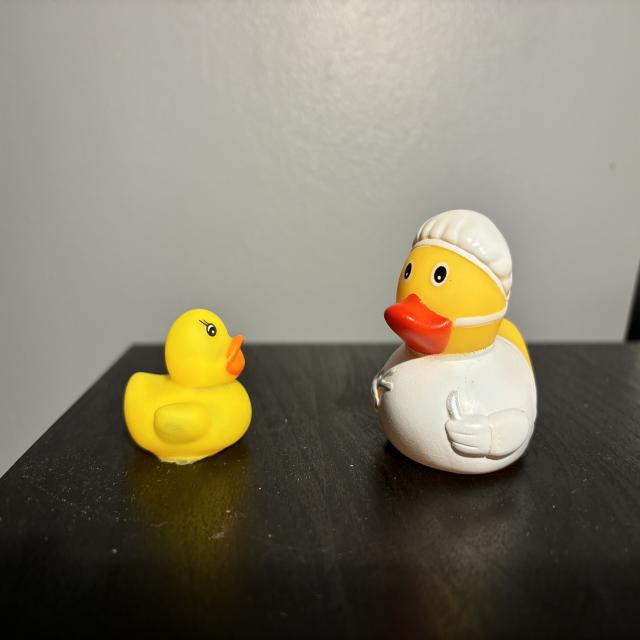duck_regular: (125, 309, 253, 465)
duck_specialty: (373, 209, 538, 476)
